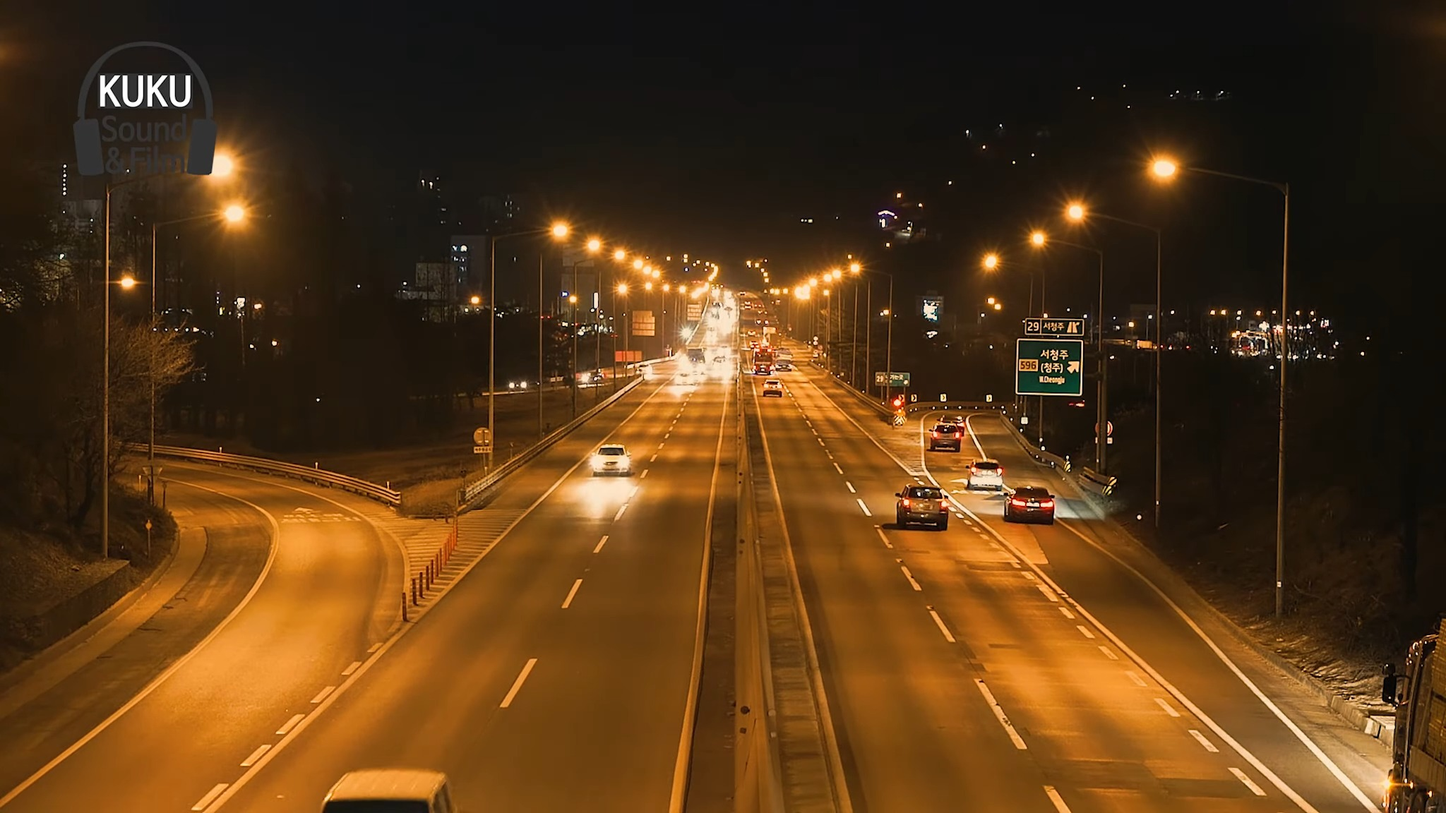car: (1003, 489, 1056, 528), (899, 491, 953, 525), (592, 441, 631, 476), (968, 459, 1003, 495)
